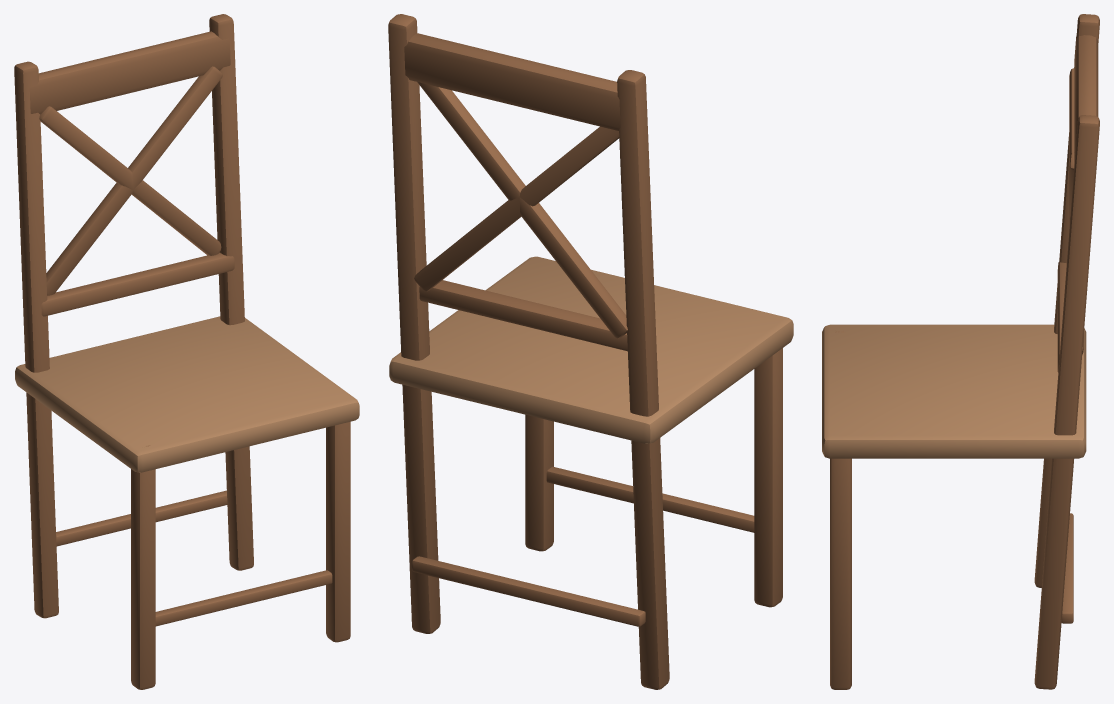
Rendered from chair-wood.glb.
3 views of the same model, side by side, from view 1: azimuth 30°, elevation 25°; view 2: azimuth 150°, elevation 25°; view 3: azimuth 270°, elevation 25° (orthographic). The views are drawn at different scales.
Parts seen in each view (by area): view 1: chair-wood; view 2: chair-wood; view 3: chair-wood.
Boxes of the visible parts, <box> form: chair-wood: <box>14,14,359,689</box>; chair-wood: <box>388,14,793,689</box>; chair-wood: <box>822,14,1099,689</box>.
Bounding box in the file's own units: 0.44 × 0.9994 × 0.4418.
